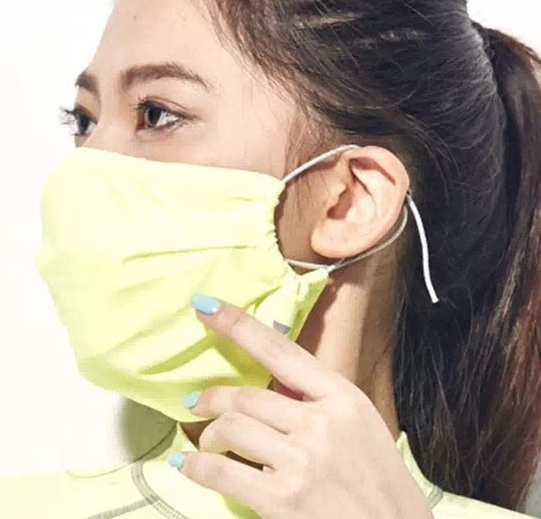face_mask: (36, 1, 290, 407)
